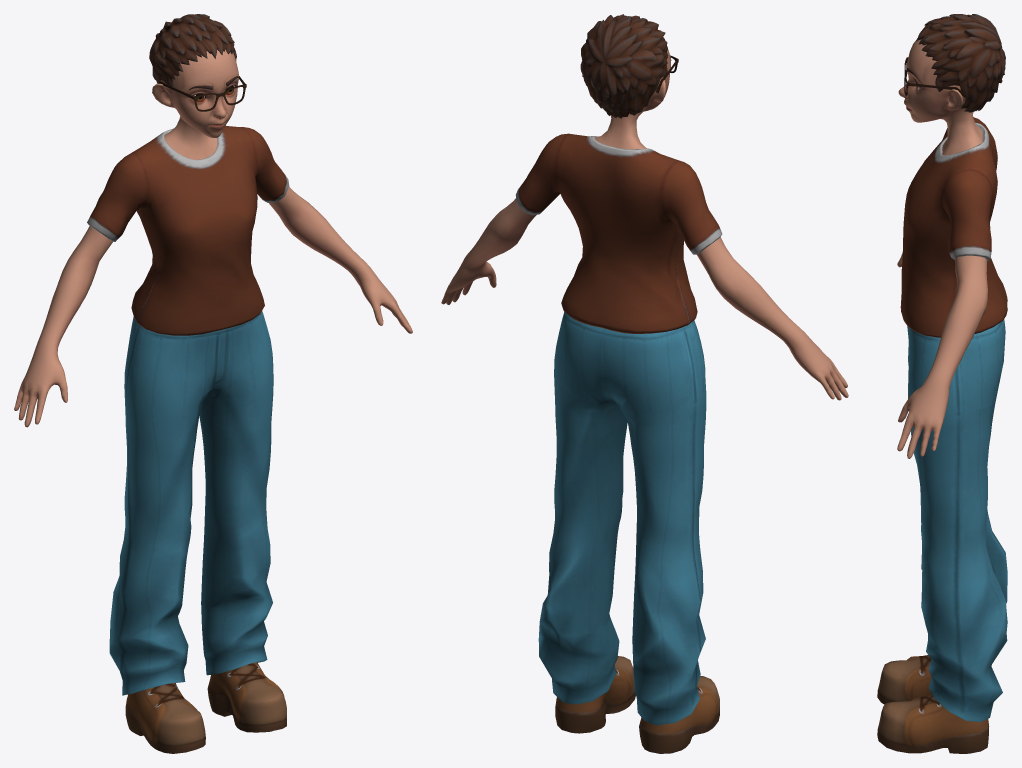
File: Destroyer_Mesh.obj
3 views of the same model, side by side, from view 1: azimuth 30°, elevation 25°; view 2: azimuth 150°, elevation 25°; view 3: azimuth 270°, elevation 25° (orthographic). The views are drawn at different scales.
Parts seen in each view (by area): view 1: Destroyer_Mesh_0; view 2: Destroyer_Mesh_0; view 3: Destroyer_Mesh_0.
Boxes of the visible parts, left/top/right/bottom form: Destroyer_Mesh_0: left=14, top=14, right=412, bottom=753; Destroyer_Mesh_0: left=441, top=14, right=848, bottom=753; Destroyer_Mesh_0: left=877, top=14, right=1007, bottom=753.
Bounding box in the file's own units: 1.06 × 1.83 × 0.3041.
1 material, 1 textured.
